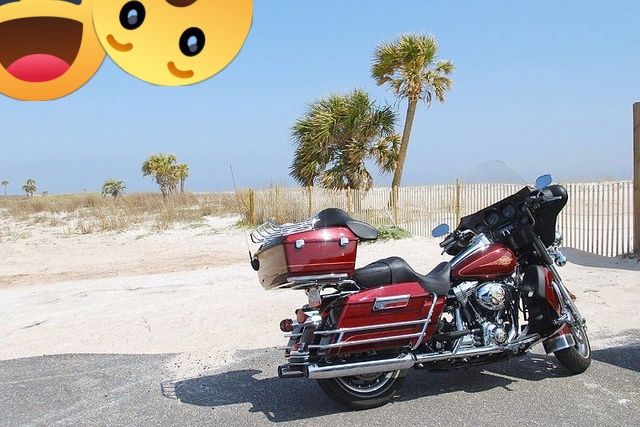haha: (0, 0, 111, 101)
wow: (92, 0, 253, 86)
